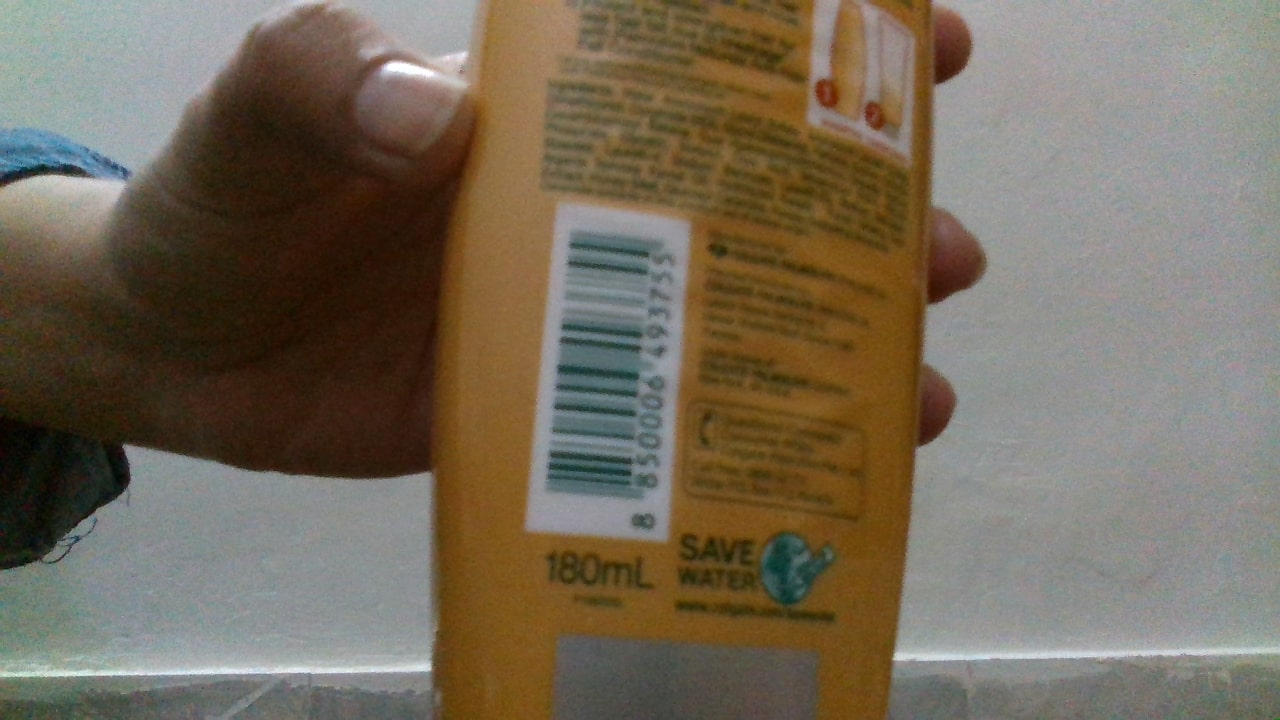Barcode: (540, 224, 670, 505)
